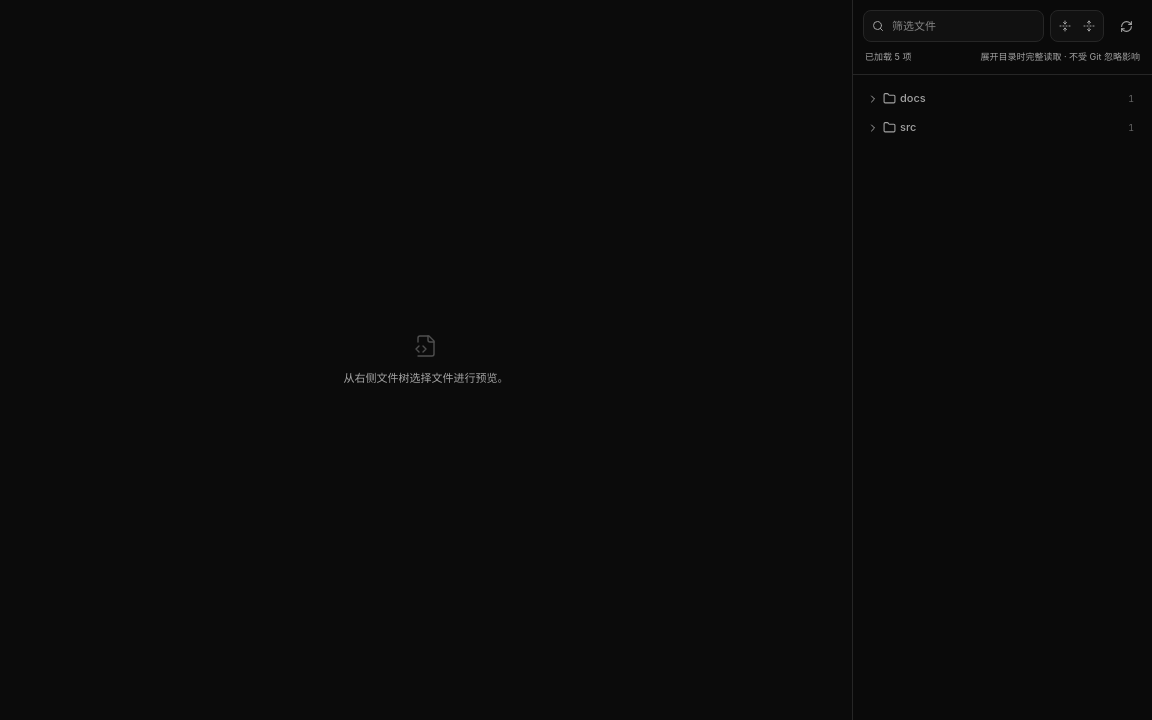
FilesPanel › collapses and expands every folder from the shared tree controls
This screenshot has width=1152, height=720.
Click the button named "全部展开文件夹".
click(1089, 26)  # box top-left (1077, 14), bottom-right (1101, 38)
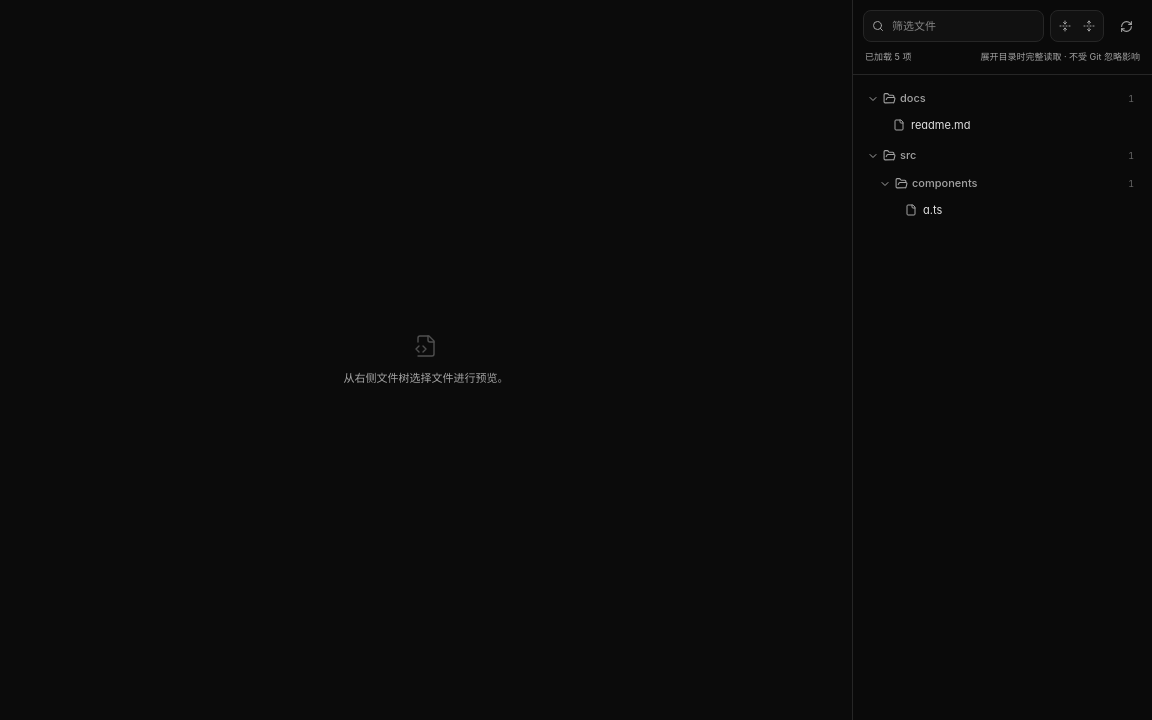
Now the text "a.ts" is shown, box top-left (923, 202), bottom-right (942, 216)
Now the text "readme.md" is shown, box top-left (911, 118), bottom-right (970, 132)
Click the button named "全部收起文件夹".
click(1065, 26)  # box top-left (1053, 14), bottom-right (1077, 38)
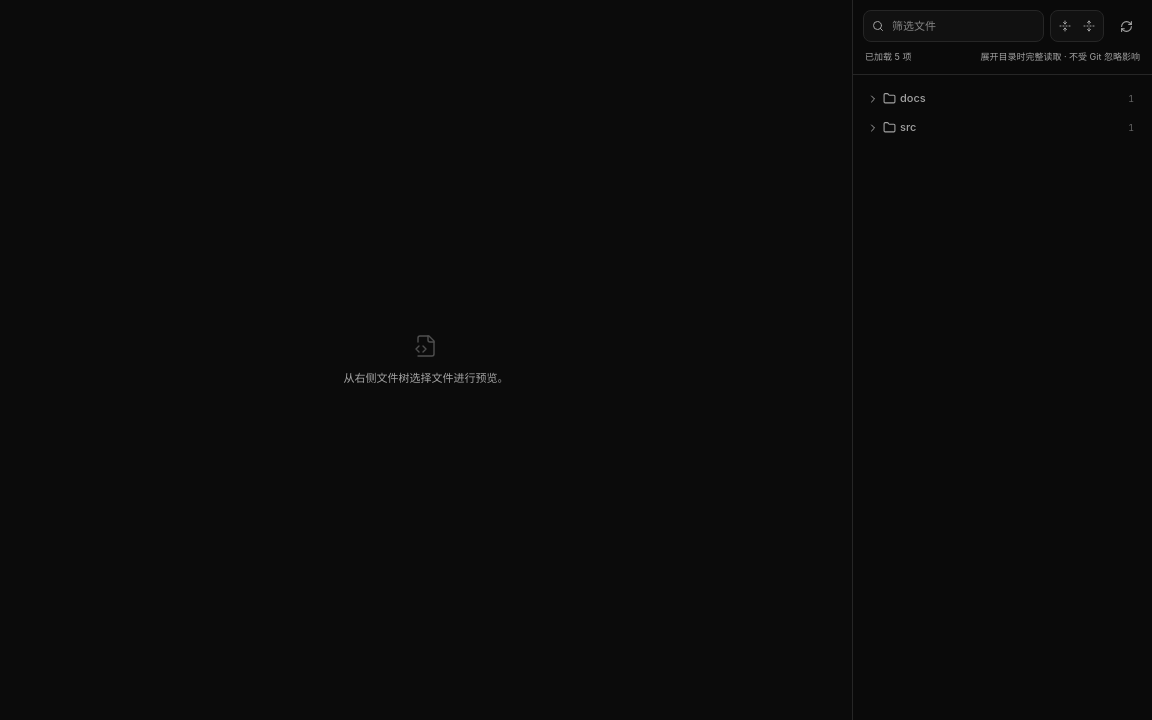
Now the list item "a.ts" is gone
Now the list item "readme.md" is gone
